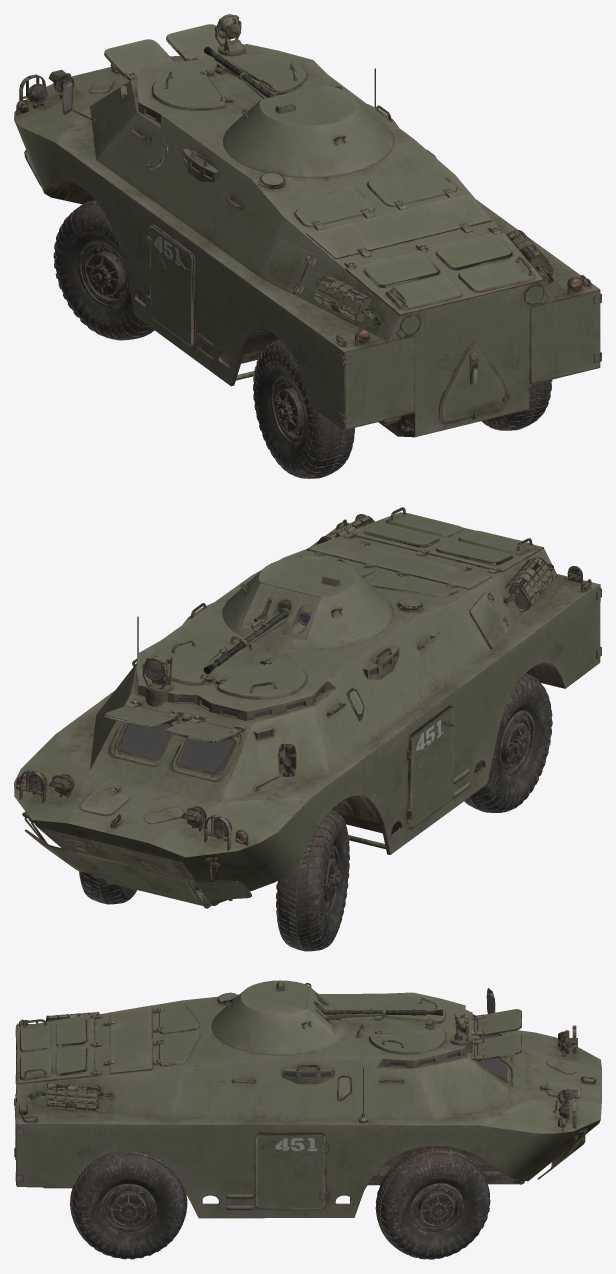
Rendered from brdm2.glb.
3 renders of one model, top to bottom at view 1: azimuth 30°, elevation 25°; view 2: azimuth 150°, elevation 25°; view 3: azimuth 270°, elevation 25°, orthographic. The views are drawn at different scales.
Visible parts, largest first — view 1: V_brdm2__Body_1, V_brdm2__Body_2, V_brdm2__Body_3, V_brdm2__Turret_1, V_brdm2__W02_1, V_brdm2__W04_1, V_brdm2__W03_1, V_brdm2__Gun_1; view 2: V_brdm2__Body_1, V_brdm2__Body_2, V_brdm2__Body_3, V_brdm2__Turret_1, V_brdm2__W02_1, V_brdm2__W04_1, V_brdm2__Gun_1, V_brdm2__Body_4, V_brdm2__W01_1; view 3: V_brdm2__Body_1, V_brdm2__Body_2, V_brdm2__W01_1, V_brdm2__W03_1, V_brdm2__Body_3, V_brdm2__Turret_1, V_brdm2__Gun_1, V_brdm2__Body_4.
Boxes of the visible parts, x1,y1,x2,y2 form: V_brdm2__Body_1: (14, 39, 600, 437); V_brdm2__Body_2: (16, 14, 601, 431); V_brdm2__Body_3: (16, 15, 601, 431); V_brdm2__Turret_1: (223, 85, 394, 177); V_brdm2__W02_1: (53, 200, 154, 340); V_brdm2__W04_1: (253, 339, 354, 478); V_brdm2__W03_1: (481, 379, 552, 430); V_brdm2__Gun_1: (204, 46, 287, 98); V_brdm2__Body_1: (14, 512, 600, 908); V_brdm2__Body_2: (16, 507, 601, 905); V_brdm2__Body_3: (16, 512, 601, 906); V_brdm2__Turret_1: (222, 556, 393, 649); V_brdm2__W02_1: (276, 809, 349, 951); V_brdm2__W04_1: (464, 673, 552, 812); V_brdm2__Gun_1: (203, 583, 320, 673); V_brdm2__Body_4: (118, 654, 396, 773); V_brdm2__W01_1: (79, 871, 136, 904); V_brdm2__Body_1: (17, 992, 601, 1218); V_brdm2__Body_2: (14, 988, 596, 1209); V_brdm2__W01_1: (375, 1147, 490, 1259); V_brdm2__W03_1: (70, 1151, 187, 1259); V_brdm2__Body_3: (14, 989, 596, 1208); V_brdm2__Turret_1: (211, 980, 348, 1055); V_brdm2__Gun_1: (308, 986, 442, 1033); V_brdm2__Body_4: (285, 1035, 505, 1081).
Size of the model in its own units: 6.61 by 6.56 by 15.51.
4 materials, 4 textured.
